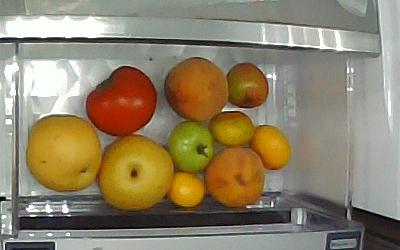peach: (166, 57, 227, 123), (206, 147, 266, 208)
pear: (26, 115, 101, 192), (99, 135, 174, 210)
tangerine: (252, 125, 294, 170), (209, 113, 256, 146), (169, 172, 205, 207)
tomato: (85, 65, 158, 135), (169, 121, 214, 172), (227, 63, 269, 109)
